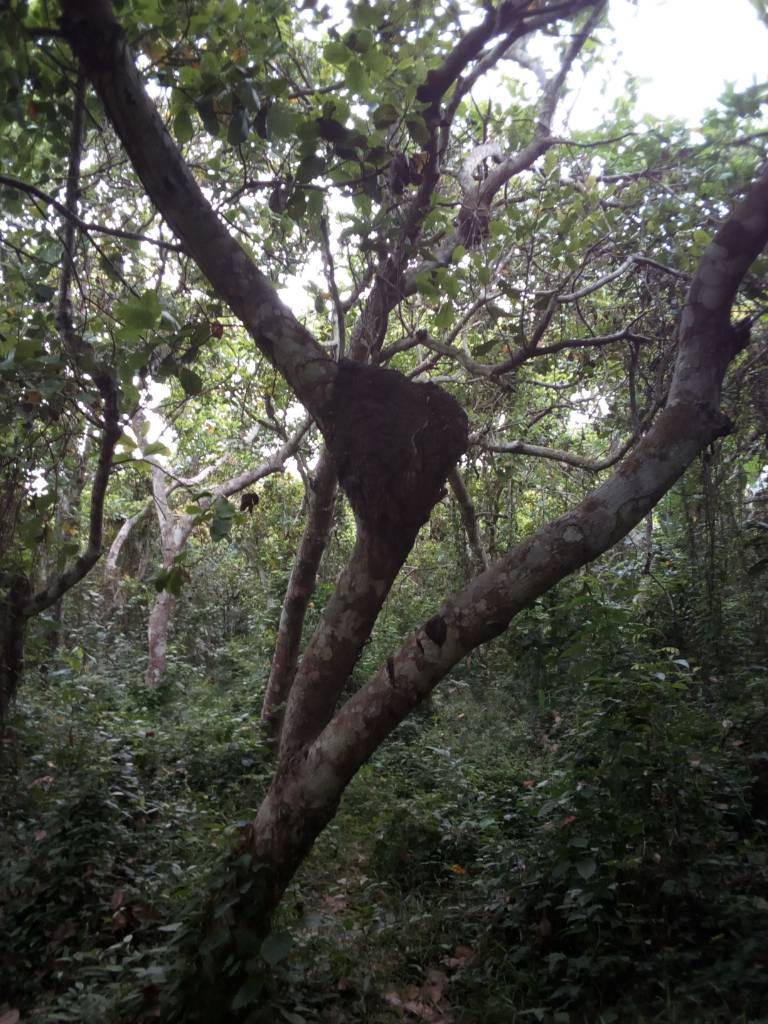Termites: (333, 352, 469, 494)
